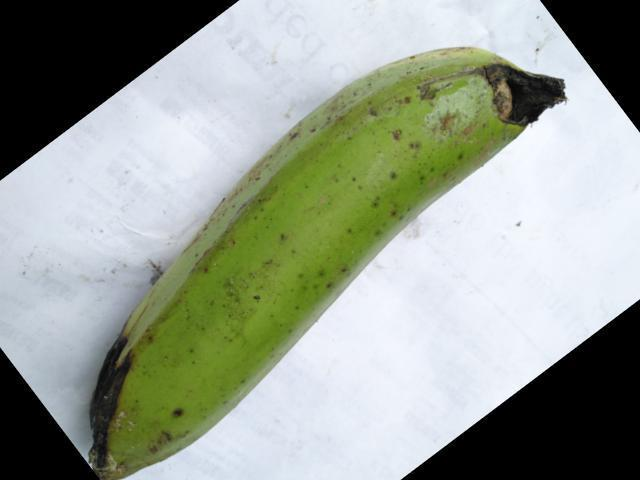rotten: (62, 320, 152, 479)
unripe: (132, 27, 554, 479)
